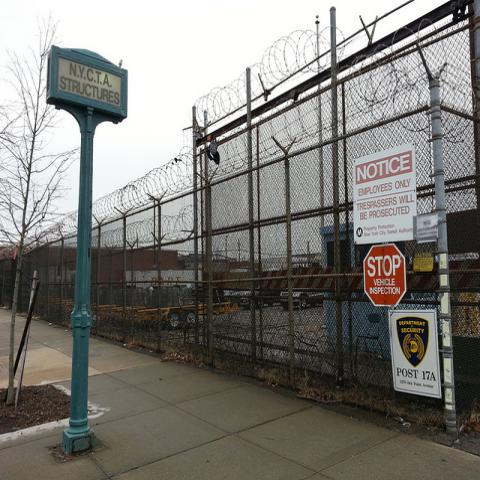car: (278, 283, 310, 308)
truck: (126, 268, 204, 287)
